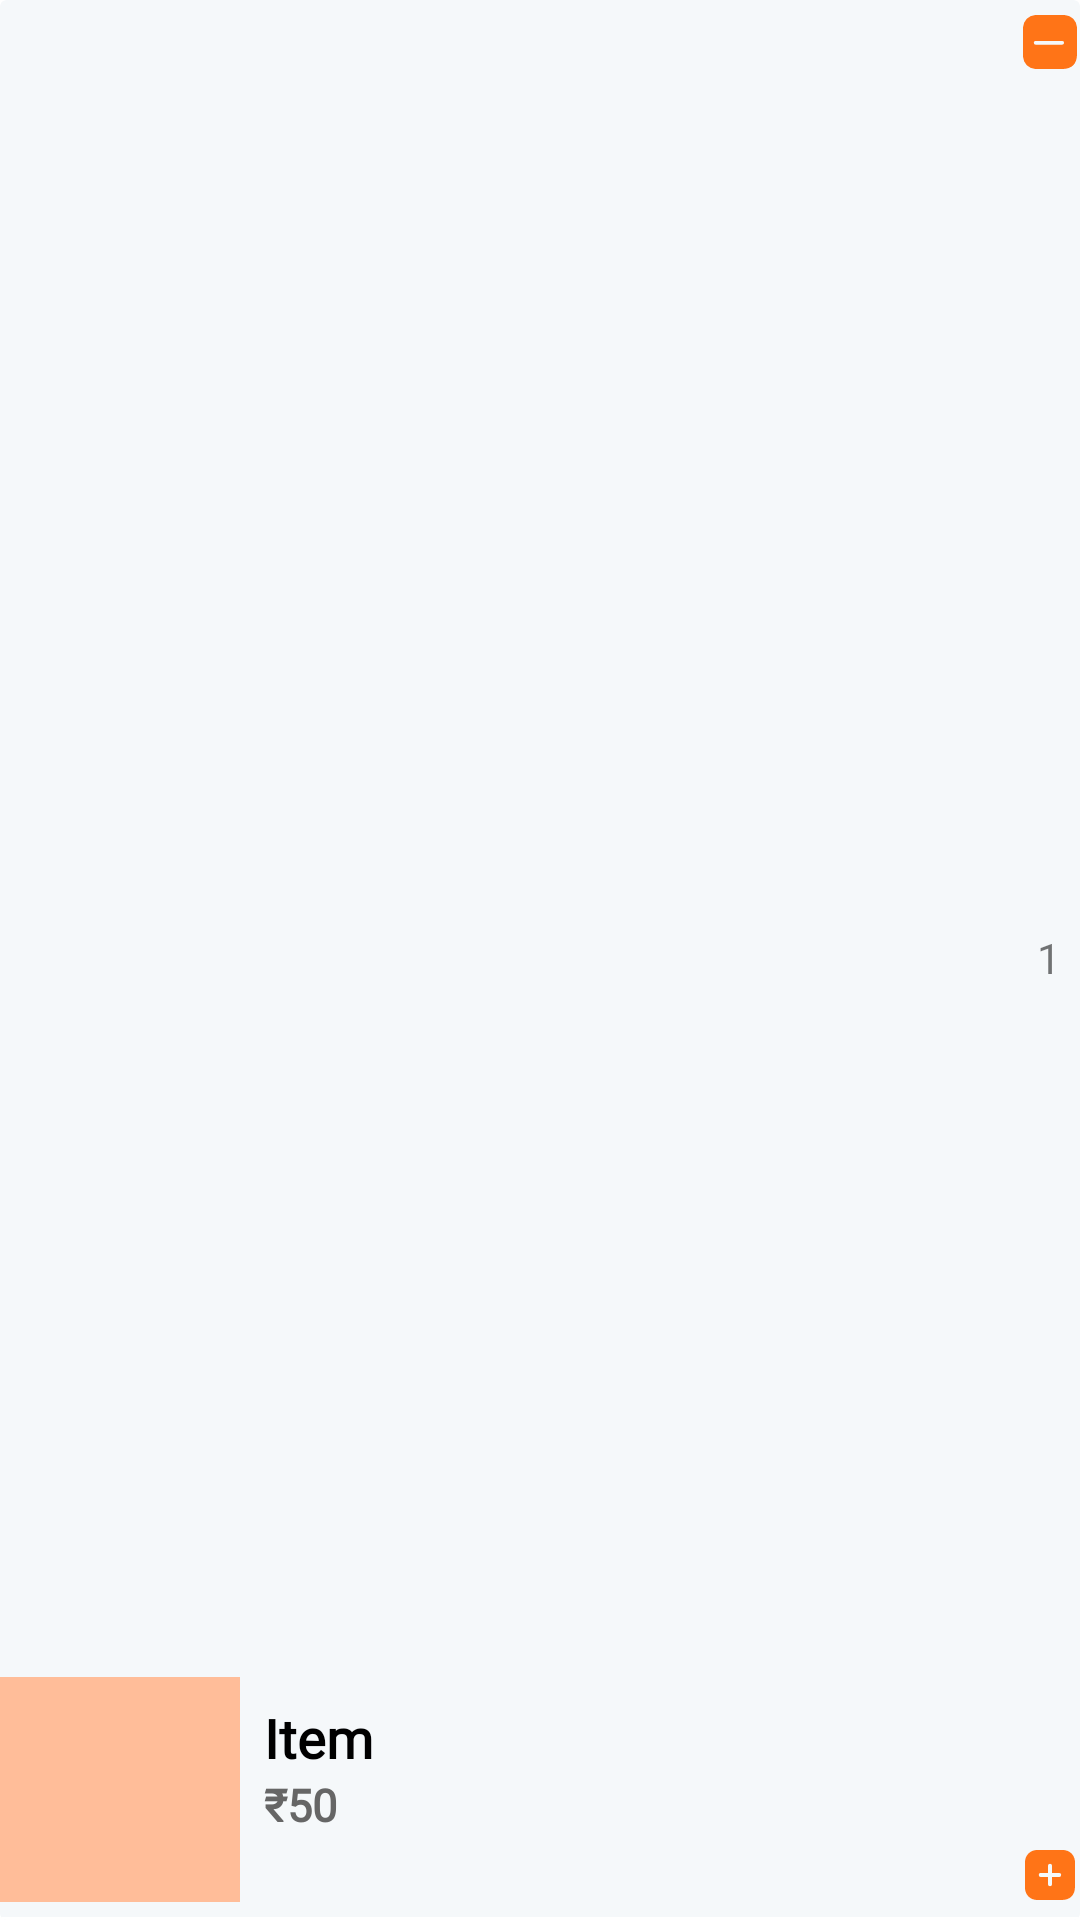

Where to tap for icons on this 1080px x 1920px app screen, as point (x, y):
minus: point (1050, 42)
plus: point (1050, 1875)
